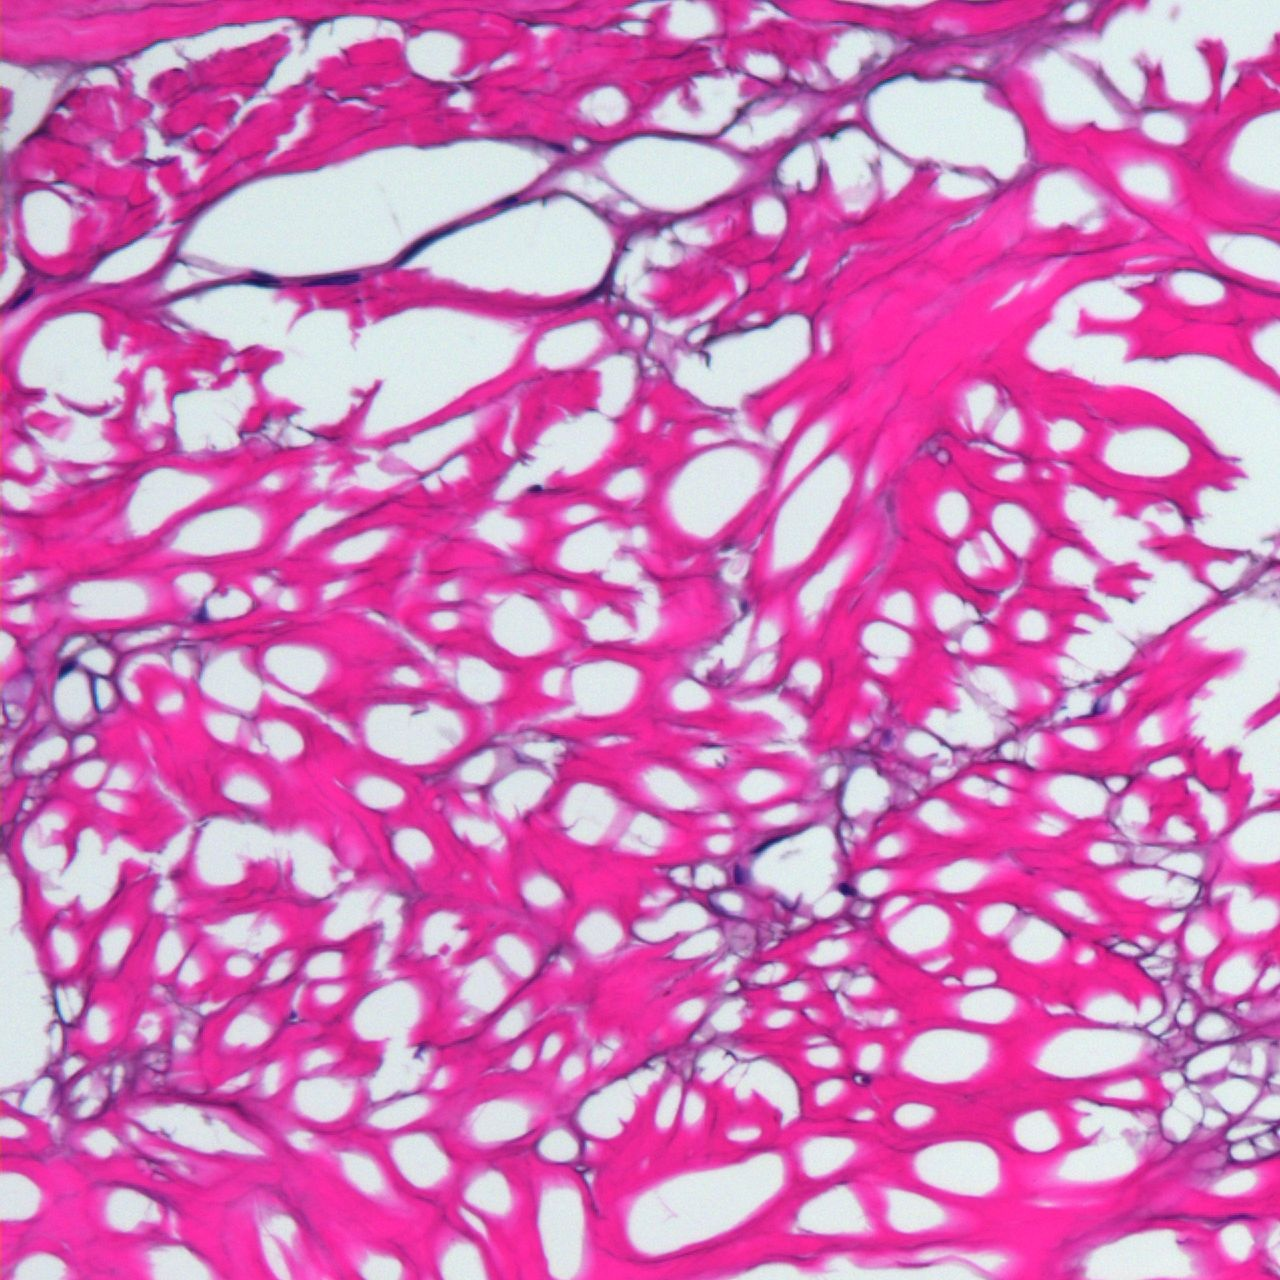nucleus-HE: (304, 269, 361, 292), (835, 879, 857, 899), (734, 863, 743, 884), (528, 485, 543, 491)
